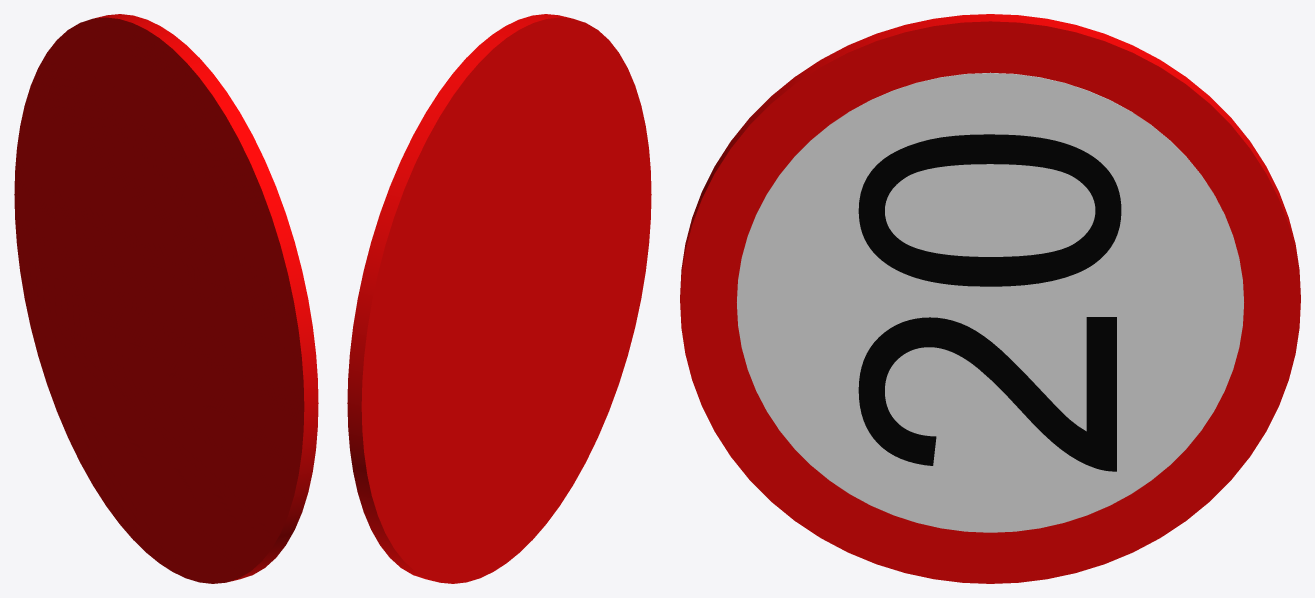
The picture shows the model from 3 angles, left to right: view 1: azimuth 30°, elevation 25°; view 2: azimuth 150°, elevation 25°; view 3: azimuth 270°, elevation 25°; orthographic projection. The views are drawn at different scales.
Visible parts, largest first — view 1: 限速20; view 2: 限速20; view 3: 限速20.
Part boxes in pixels (box(x1,y1,x2,y2)): 限速20: box(14, 14, 318, 583); 限速20: box(347, 14, 651, 583); 限速20: box(680, 14, 1300, 583).
Bounding box in the file's own units: 0.0234 × 0.7737 × 0.7737.
